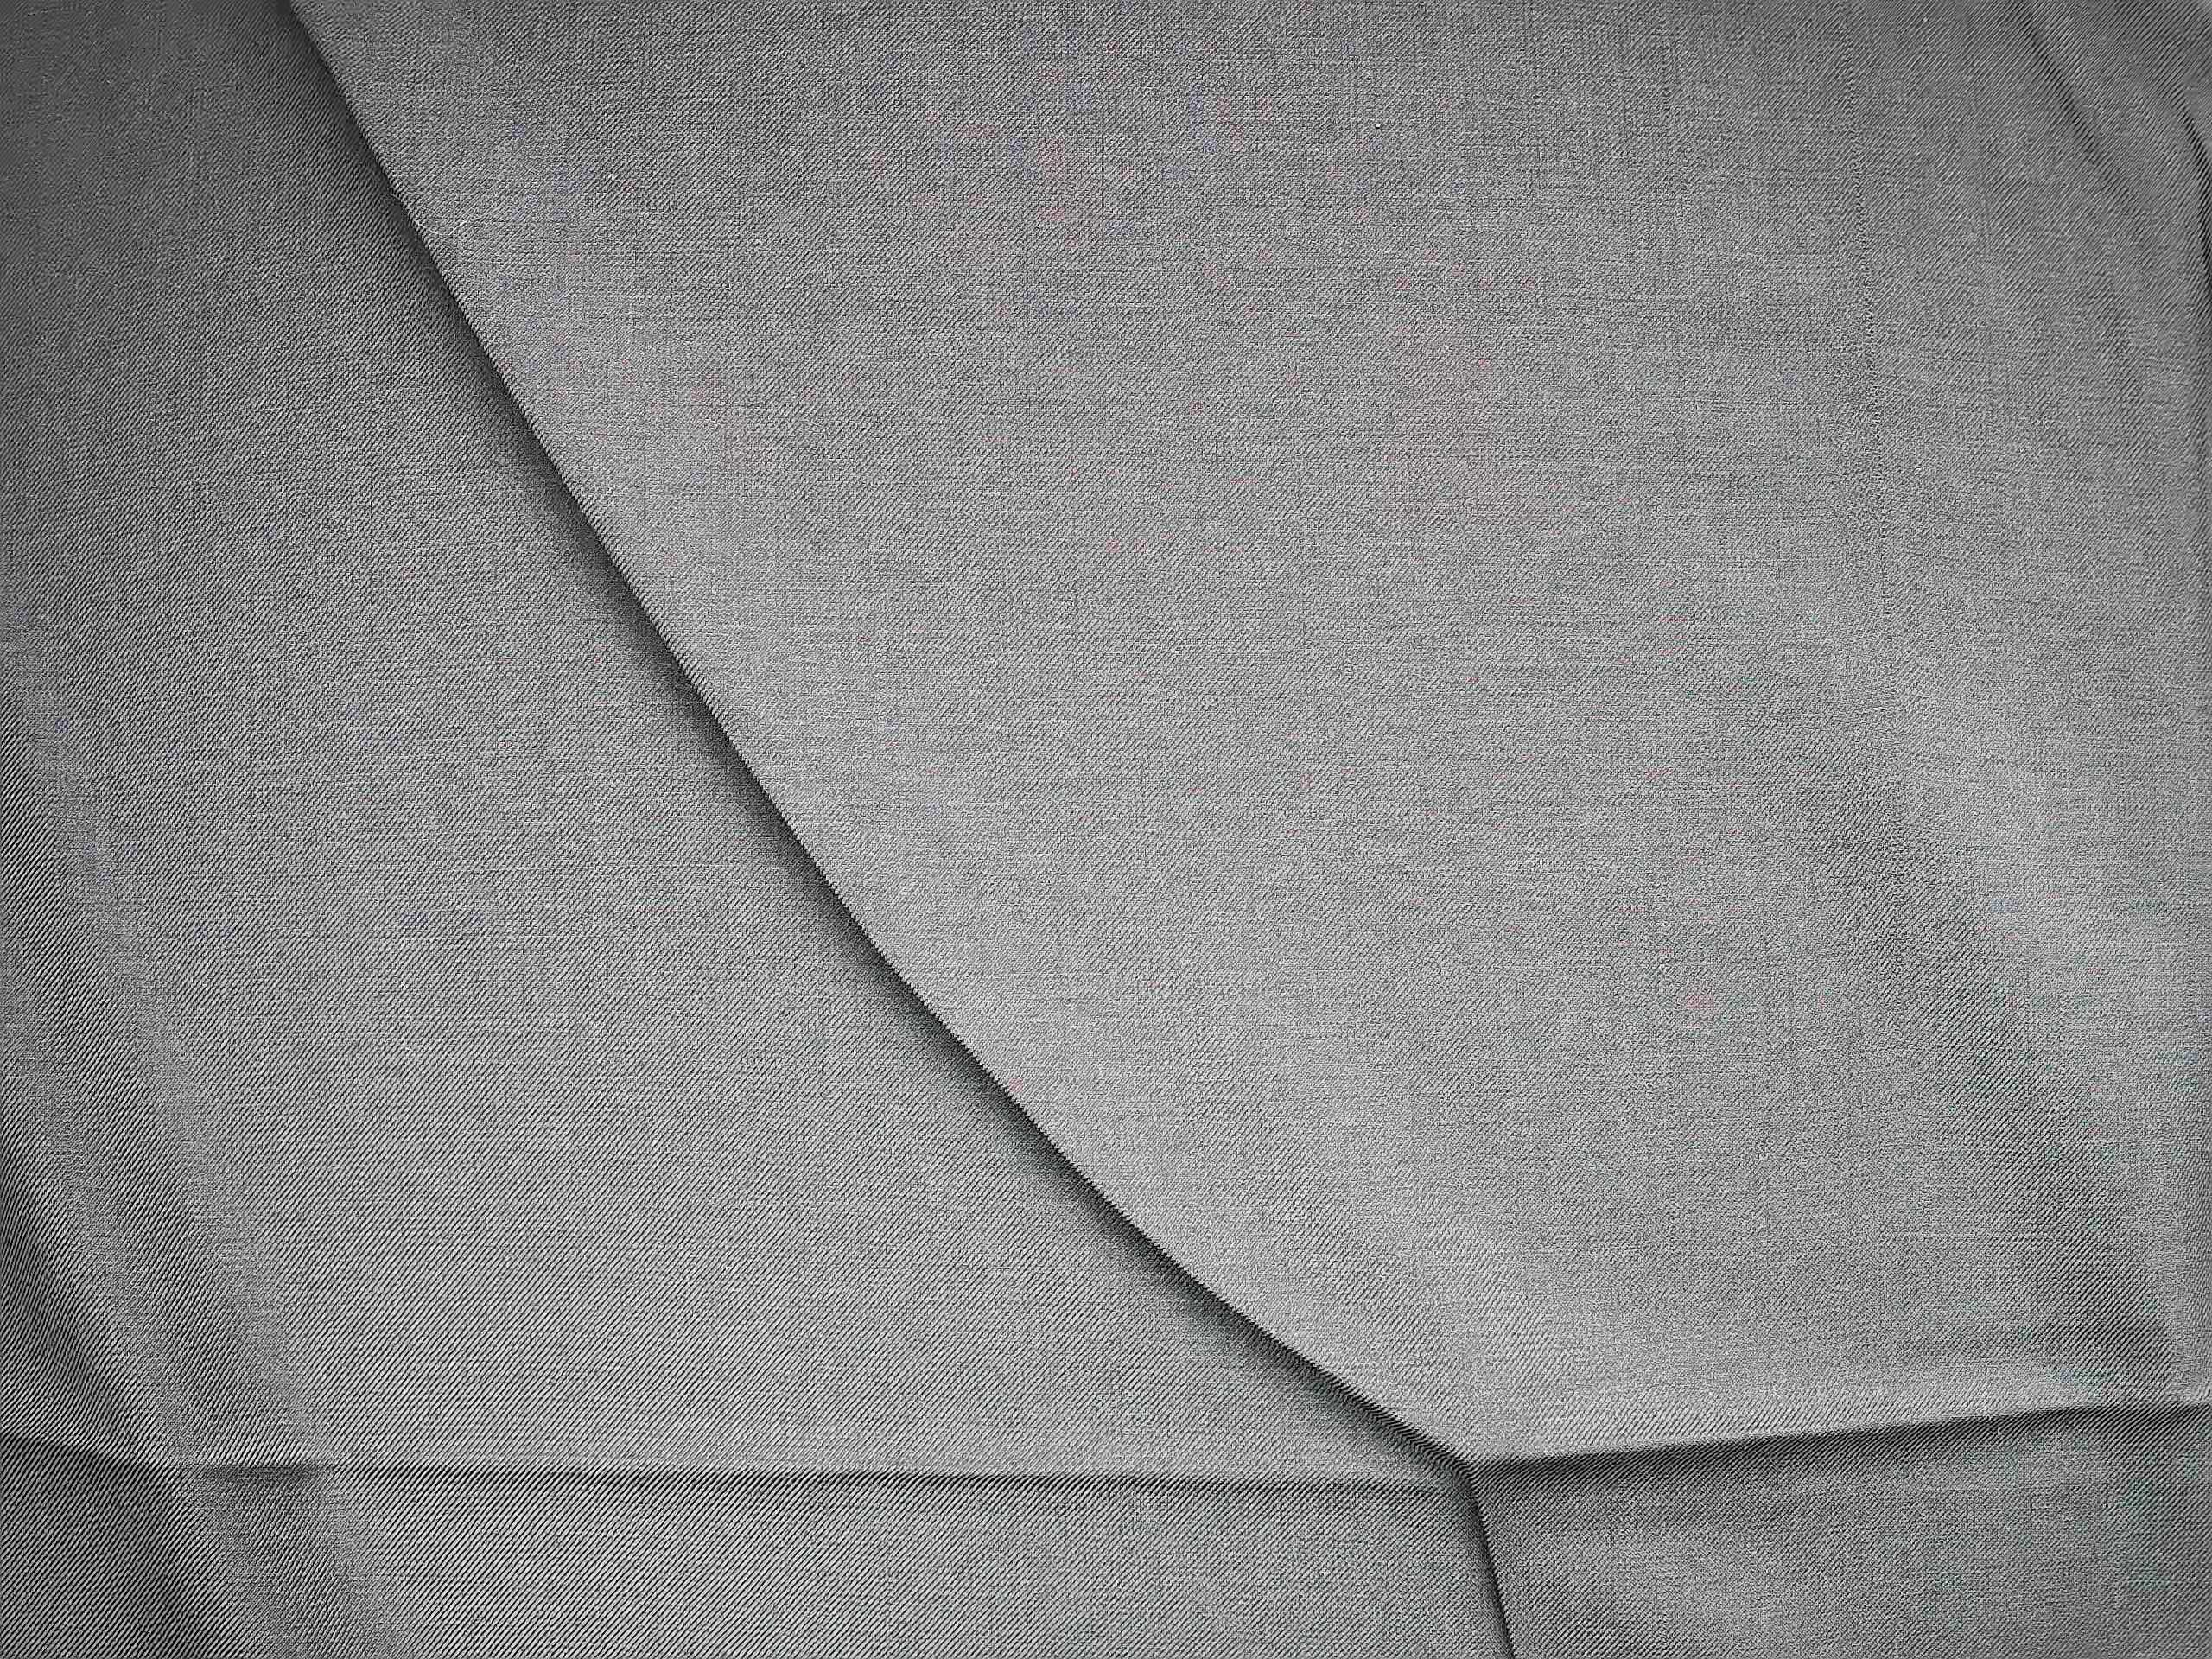hanging-warp: (1827, 9, 1902, 833)
